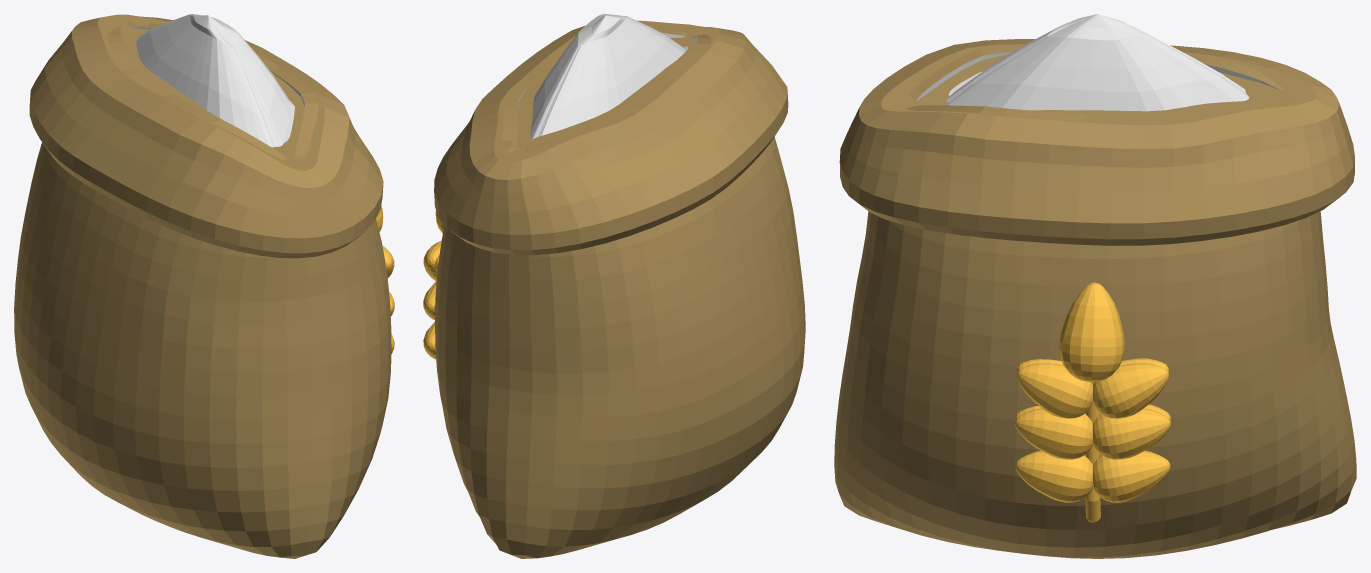
File: flour.fbx
The picture shows the model from 3 angles, left to right: view 1: azimuth 30°, elevation 25°; view 2: azimuth 150°, elevation 25°; view 3: azimuth 270°, elevation 25°; orthographic projection. The views are drawn at different scales.
Parts seen in each view (by area): view 1: Plane, Plane.002, Plane.003, Plane.001; view 2: Plane, Plane.002, Plane.003, Plane.001; view 3: Plane, Plane.002, Plane.003, Sphere.001, Sphere.002, Sphere.003, Sphere, Plane.001, Cylinder.
Part boxes in pixels (box(x1,y1,x2,y2)): Plane: box(14, 15, 391, 558); Plane.002: box(120, 14, 304, 147); Plane.003: box(97, 14, 324, 170); Plane.001: box(107, 21, 319, 160); Plane: box(434, 26, 805, 558); Plane.002: box(516, 14, 697, 139); Plane.003: box(494, 20, 718, 162); Plane.001: box(502, 28, 710, 153); Plane: box(834, 39, 1356, 558); Plane.002: box(916, 14, 1278, 111); Plane.003: box(881, 44, 1316, 125); Sphere.001: box(1017, 358, 1168, 418); Sphere.002: box(1015, 404, 1170, 459); Sphere.003: box(1015, 450, 1170, 502); Sphere: box(1059, 282, 1124, 381); Plane.001: box(906, 44, 1294, 124); Cylinder: box(1085, 382, 1100, 522).
Bounding box in the file's own units: 141 × 201 × 179.
